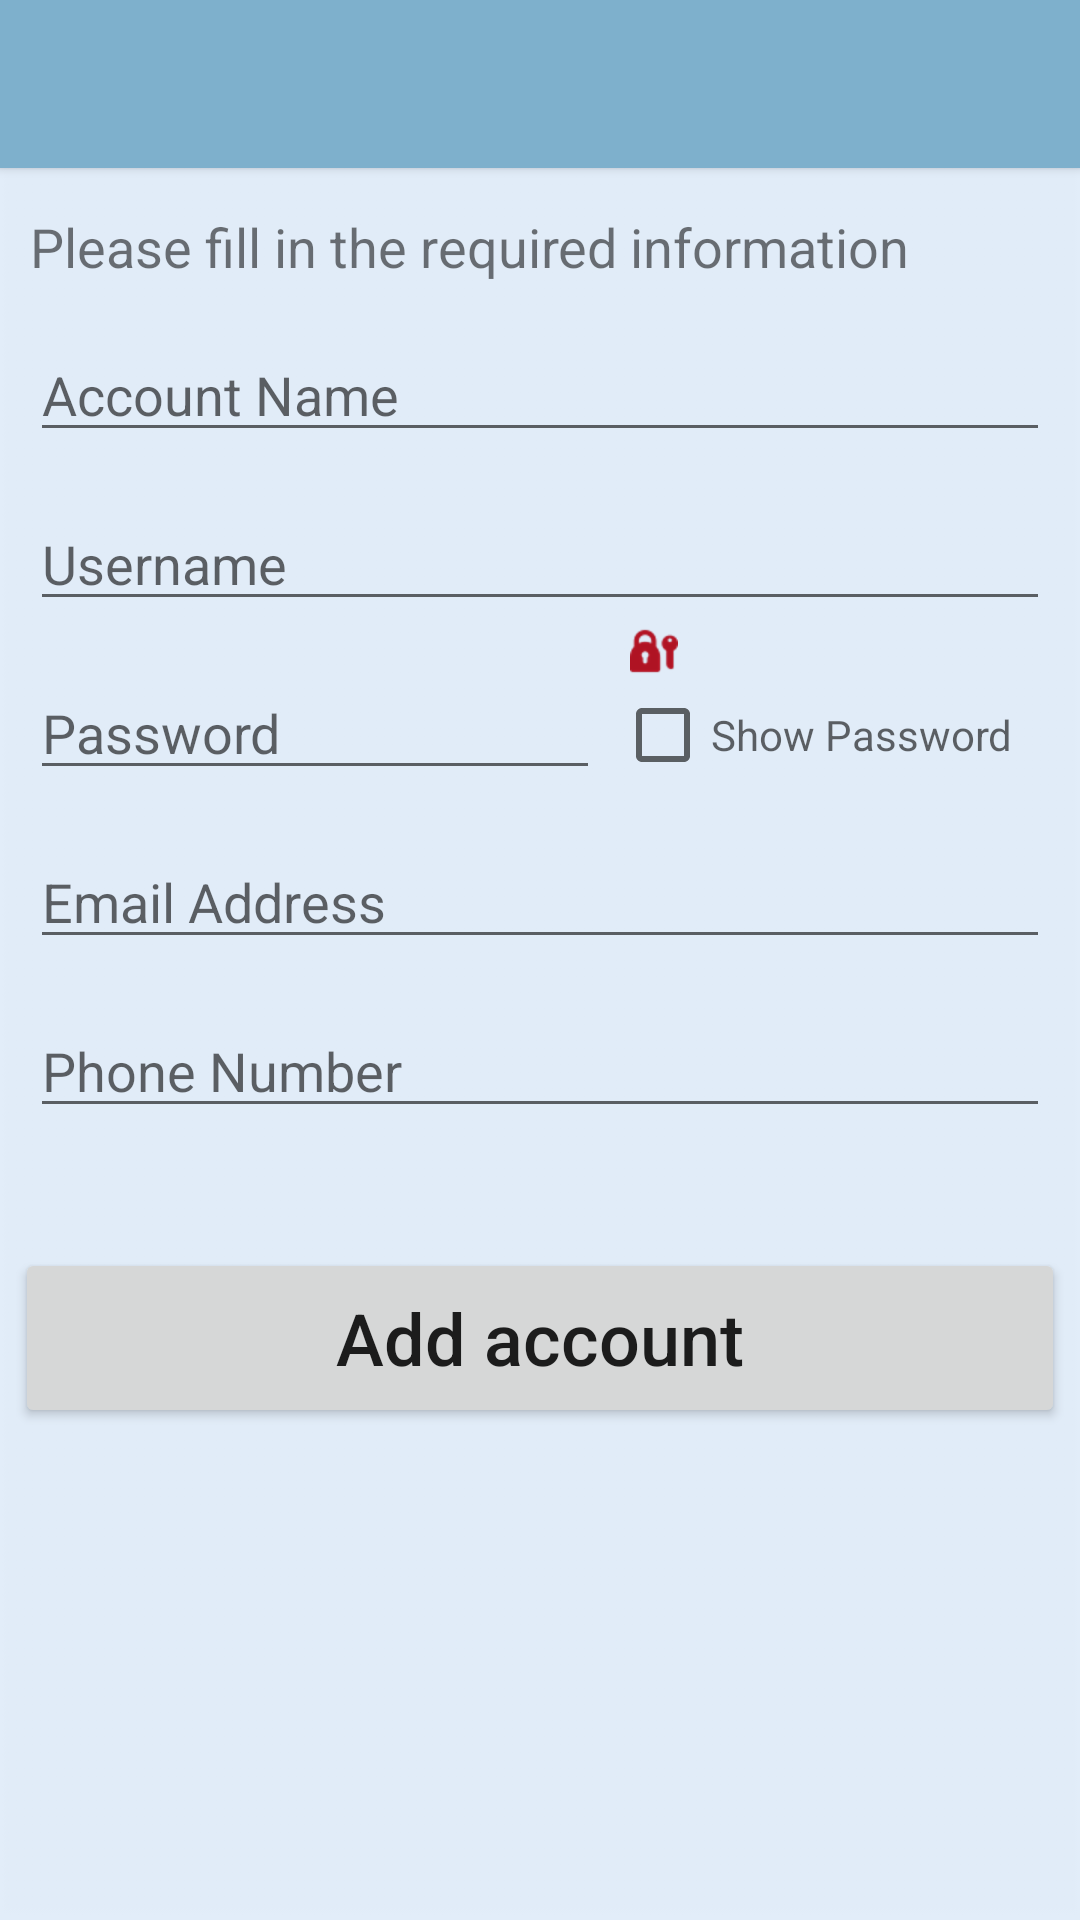

Icon click points for this 1080×1920 phone screenshot, format [x,y]:
passg: [654,651]
